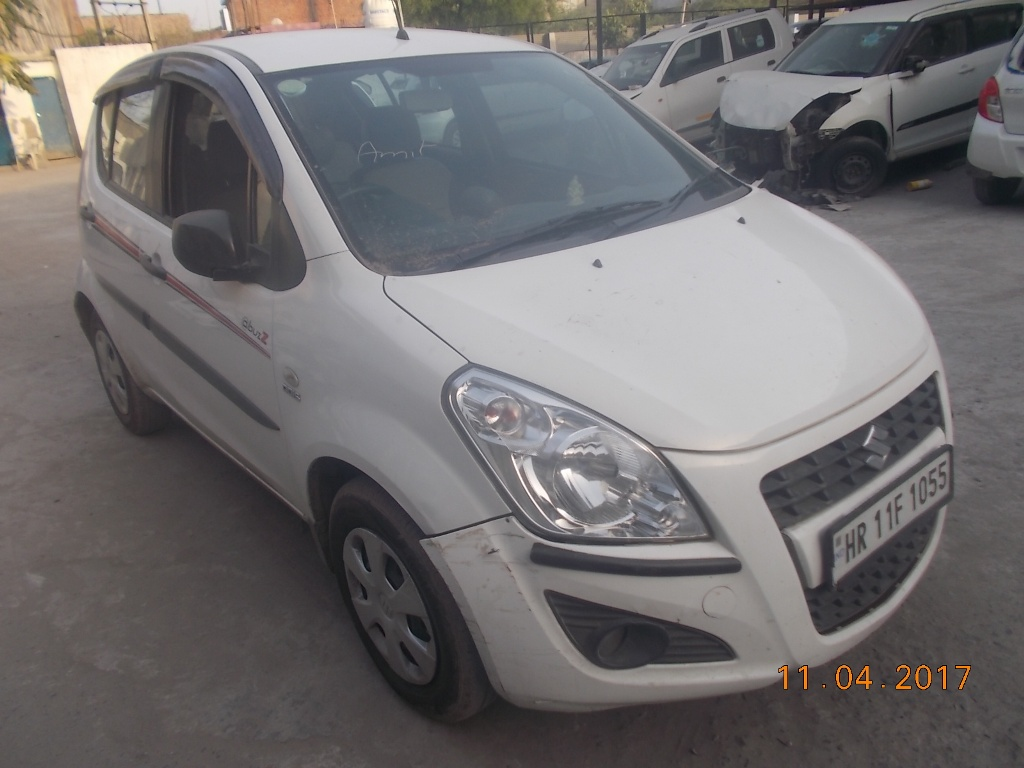Scratch_or_spot: (478, 532, 511, 567)
